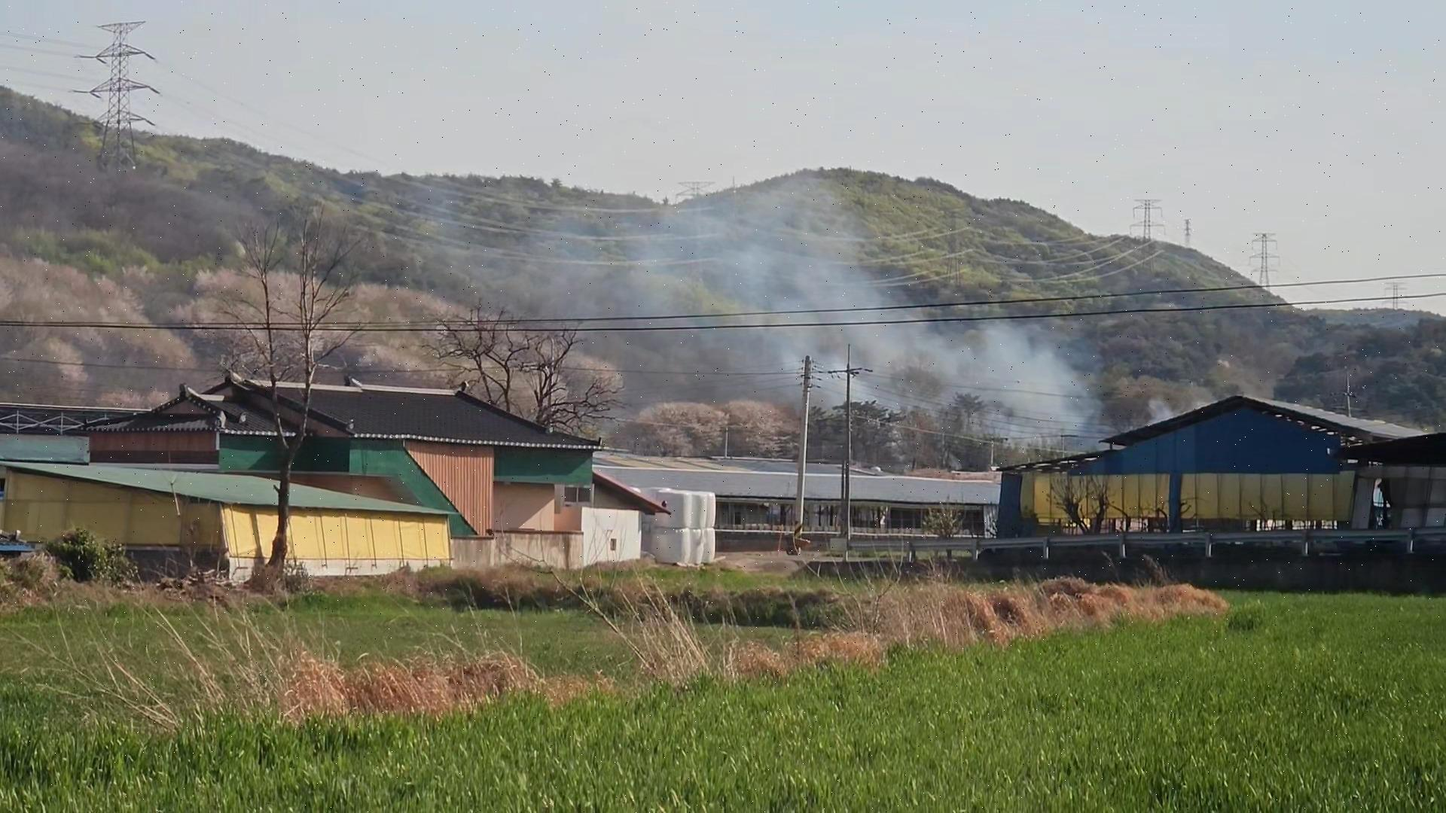smoke: (556, 134, 1113, 462)
